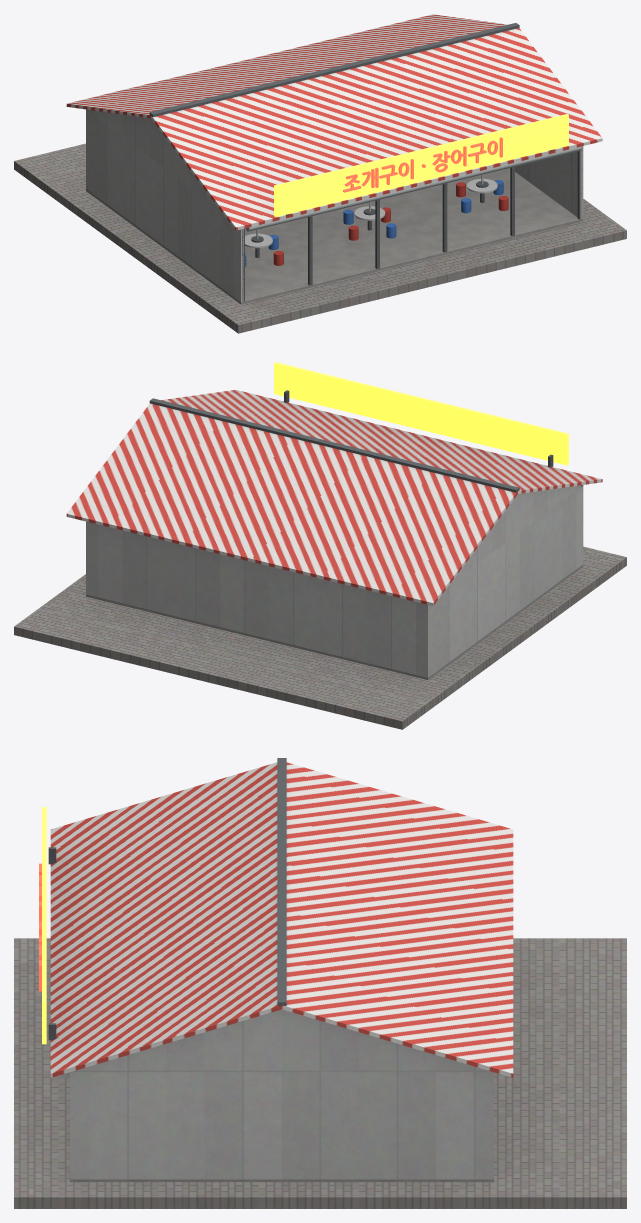
Rendered from IlsanGrill01.fbx.
The picture shows the model from 3 angles, top to bottom: view 1: azimuth 30°, elevation 25°; view 2: azimuth 150°, elevation 25°; view 3: azimuth 270°, elevation 25°; orthographic projection. The views are drawn at different scales.
Parts seen in each view (by area): view 1: IlsanGrill01; view 2: IlsanGrill01; view 3: IlsanGrill01.
Boxes of the visible parts, bbox=[...] form: IlsanGrill01: bbox=[14, 14, 626, 333]; IlsanGrill01: bbox=[14, 362, 626, 729]; IlsanGrill01: bbox=[14, 758, 626, 1208].
Size of the model in its own units: 15.9 by 5.7 by 15.9.
1 material, 1 textured.
